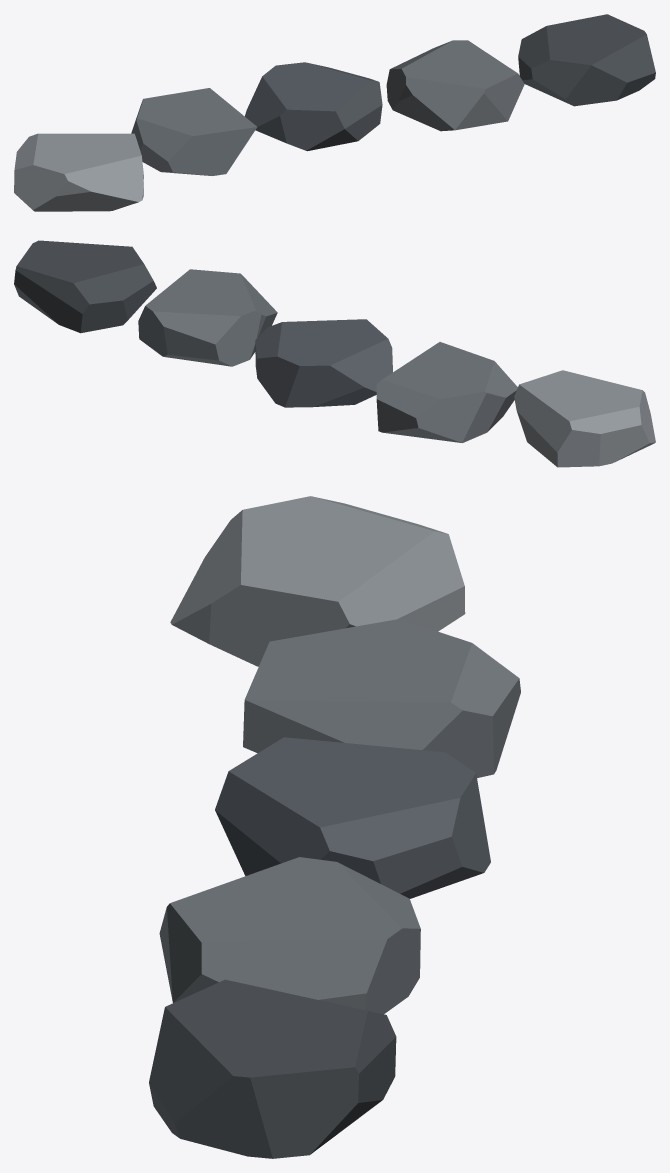
The model's file is mdvl_nature_steppingstones_01.glb.
The picture shows the model from 3 angles, top to bottom: view 1: azimuth 30°, elevation 25°; view 2: azimuth 150°, elevation 25°; view 3: azimuth 270°, elevation 25°; orthographic projection. The views are drawn at different scales.
Visible parts, largest first — view 1: mdvl_nature_steppingstones_01; view 2: mdvl_nature_steppingstones_01; view 3: mdvl_nature_steppingstones_01.
Part boxes in pixels (<box>): mdvl_nature_steppingstones_01: <box>14,14,655,211</box>; mdvl_nature_steppingstones_01: <box>14,240,655,467</box>; mdvl_nature_steppingstones_01: <box>149,496,520,1158</box>.
Size of the model in its own units: 3.08 by 0.19 by 0.8098.
1 material, 1 textured.
